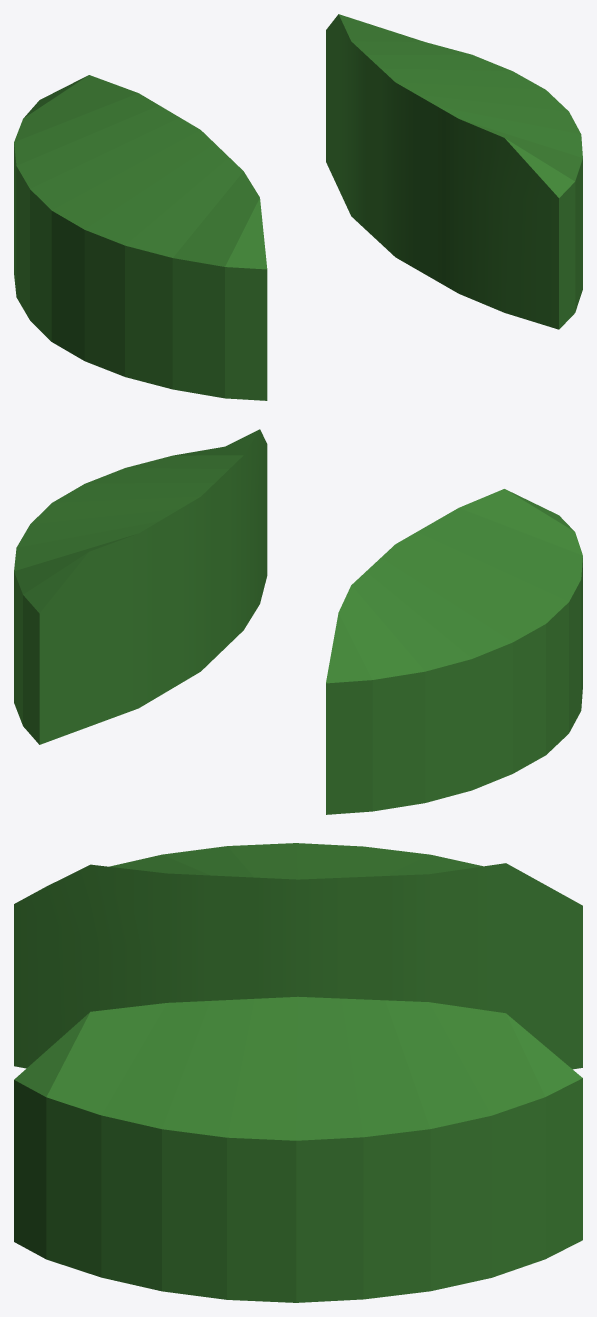
Rendered from Walls.fbx.
The picture shows the model from 3 angles, top to bottom: view 1: azimuth 30°, elevation 25°; view 2: azimuth 150°, elevation 25°; view 3: azimuth 270°, elevation 25°; orthographic projection. The views are drawn at different scales.
Parts seen in each view (by area): view 1: pCylinder5; view 2: pCylinder5; view 3: pCylinder5.
Boxes of the visible parts, x1=… form: pCylinder5: x1=14, y1=14, x2=582, y2=400; pCylinder5: x1=14, y1=429, x2=582, y2=814; pCylinder5: x1=14, y1=843, x2=582, y2=1302.
Size of the model in its own units: 20.2 by 6.83 by 16.31.
